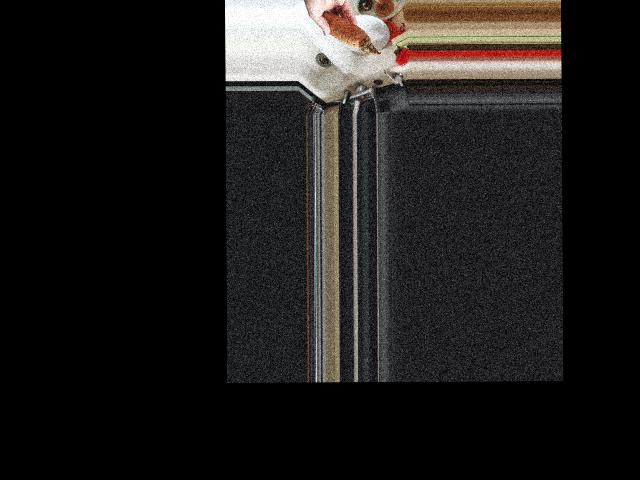sweet_potato: (317, 7, 382, 55)
